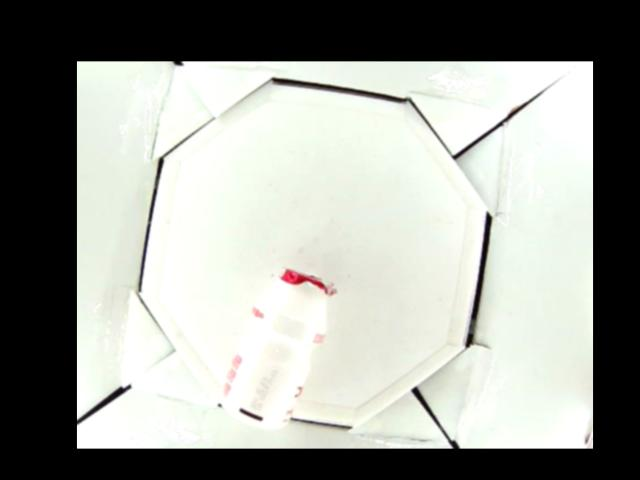Bottle: (216, 269, 335, 428)
